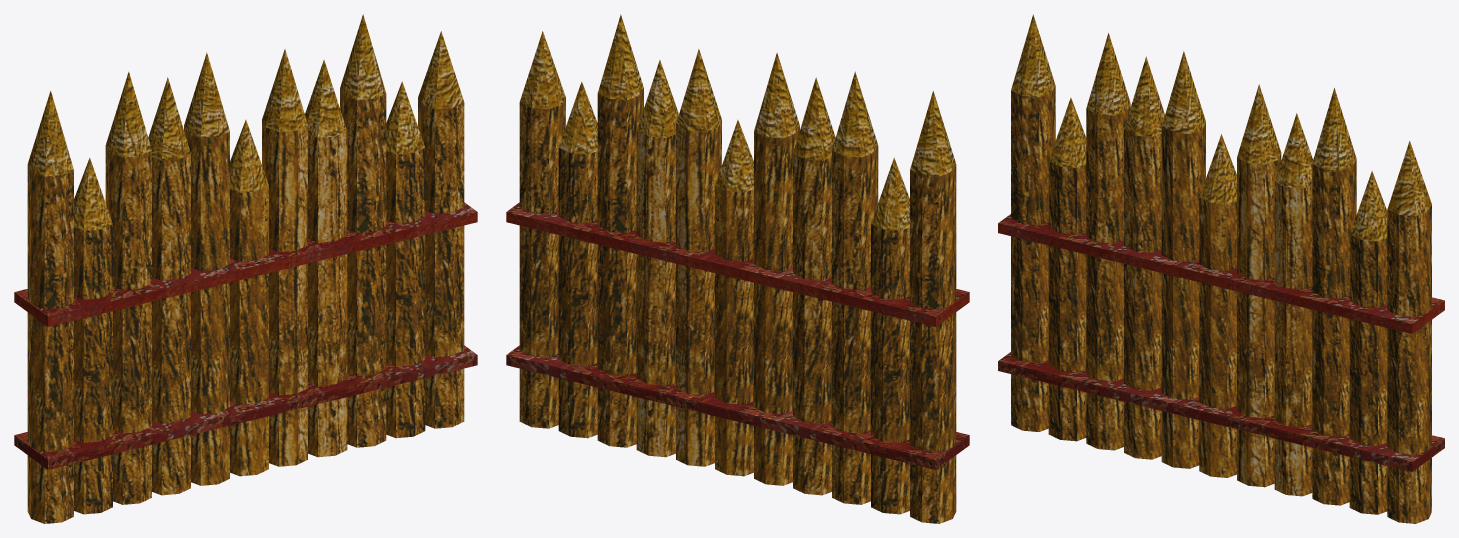
Rendered from psads1.glb.
3 views of the same model, side by side, from view 1: azimuth 30°, elevation 25°; view 2: azimuth 150°, elevation 25°; view 3: azimuth 330°, elevation 25° (orthographic). The views are drawn at different scales.
Visible parts, largest first — view 1: psads1; view 2: psads1; view 3: psads1.
Boxes of the visible parts, x1,y1,x2,y2 form: psads1: [14, 14, 477, 523]; psads1: [506, 14, 969, 523]; psads1: [998, 14, 1444, 523].
Bounding box in the file's own units: 5.5 × 5.19 × 0.75.
Materials: 3 (3 with a texture image).
